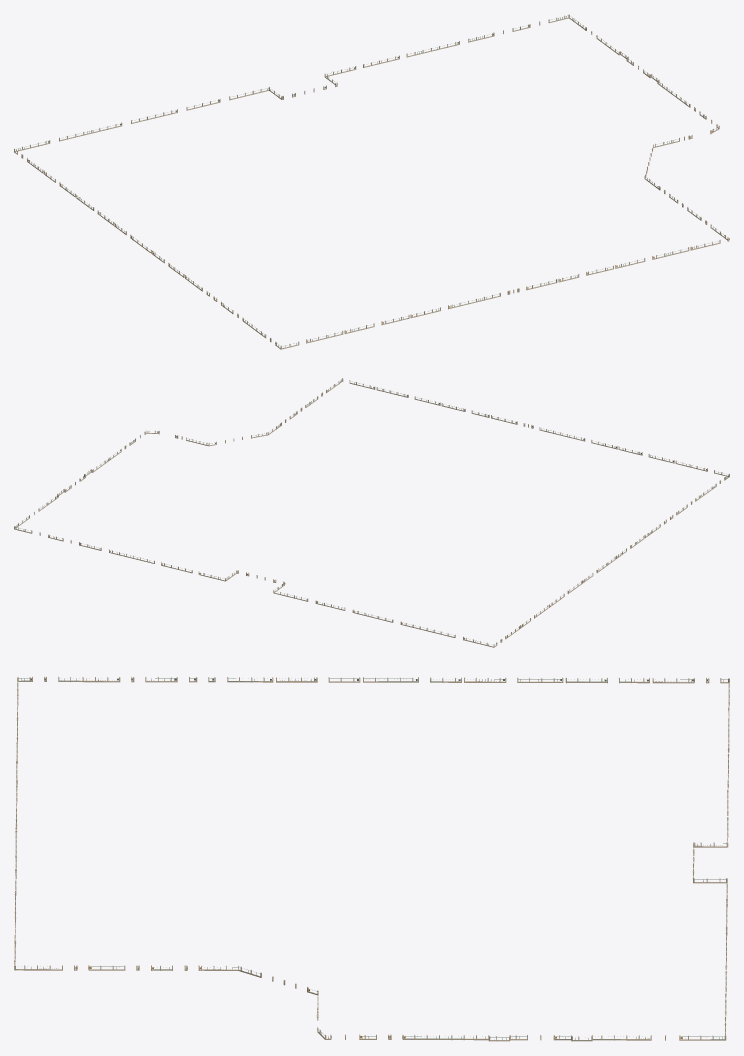
File: haram-fence.glb
3 renders of one model, top to bottom at view 1: azimuth 30°, elevation 25°; view 2: azimuth 150°, elevation 25°; view 3: azimuth 270°, elevation 25°, orthographic. The views are drawn at different scales.
Bounding box in the file's own units: 661 × 4.71 × 556.
Materials: 7 (4 with a texture image).
